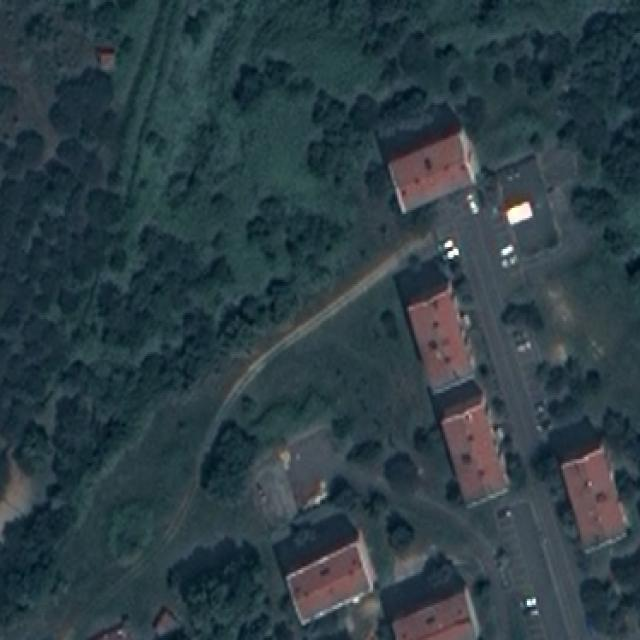Batiment: (273, 514, 374, 625), (379, 104, 479, 213), (395, 259, 474, 393), (549, 416, 627, 549), (431, 380, 509, 503), (381, 555, 479, 640)
